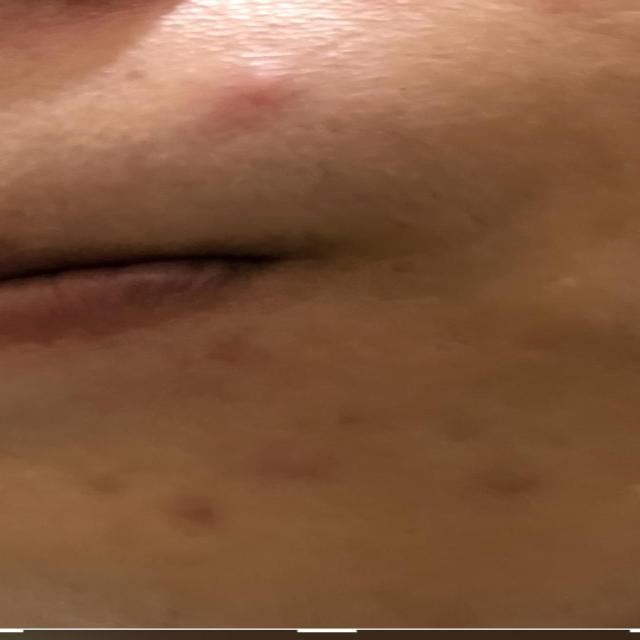papule: (158, 62, 333, 133)
